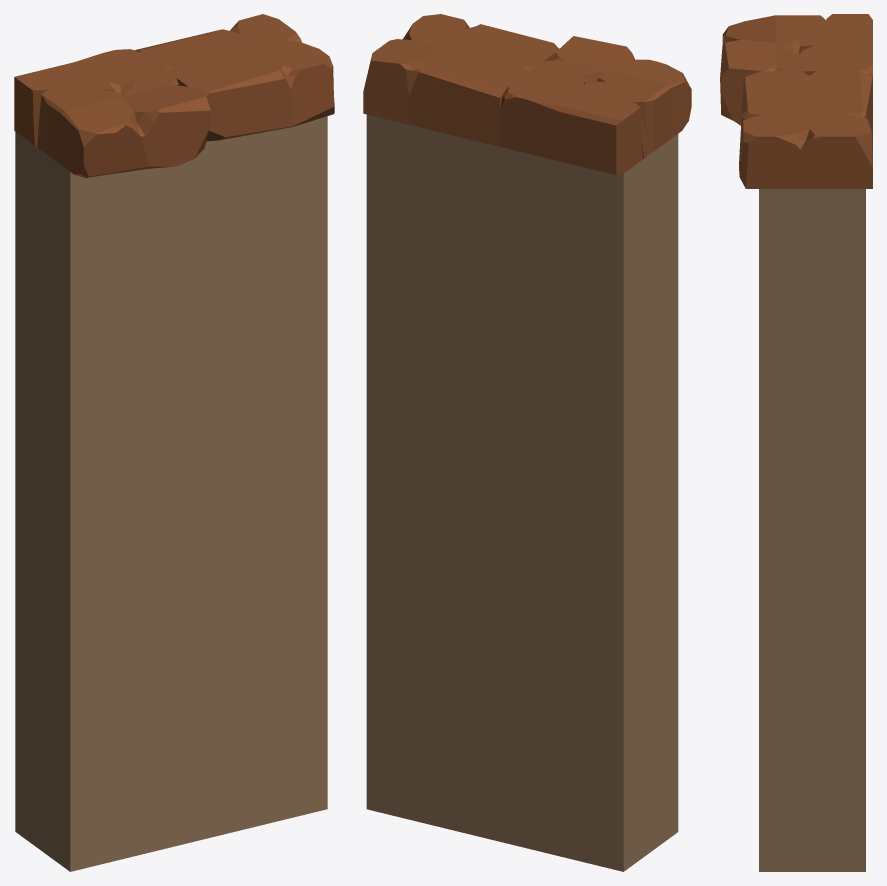
File: duvar1.fbx
The picture shows the model from 3 angles, left to right: view 1: azimuth 30°, elevation 25°; view 2: azimuth 150°, elevation 25°; view 3: azimuth 270°, elevation 25°; orthographic projection. The views are drawn at different scales.
Visible parts, largest first — view 1: duvar1; view 2: duvar1; view 3: duvar1.
Part boxes in pixels (box(x1,y1,x2,y2)): duvar1: box(14, 14, 334, 871); duvar1: box(363, 14, 691, 871); duvar1: box(720, 14, 872, 871).
Bounding box in the file's own units: 1 × 2.81 × 0.5273.
1 material, 1 textured.
